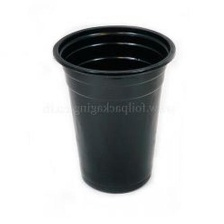glass: (43, 19, 183, 204)
